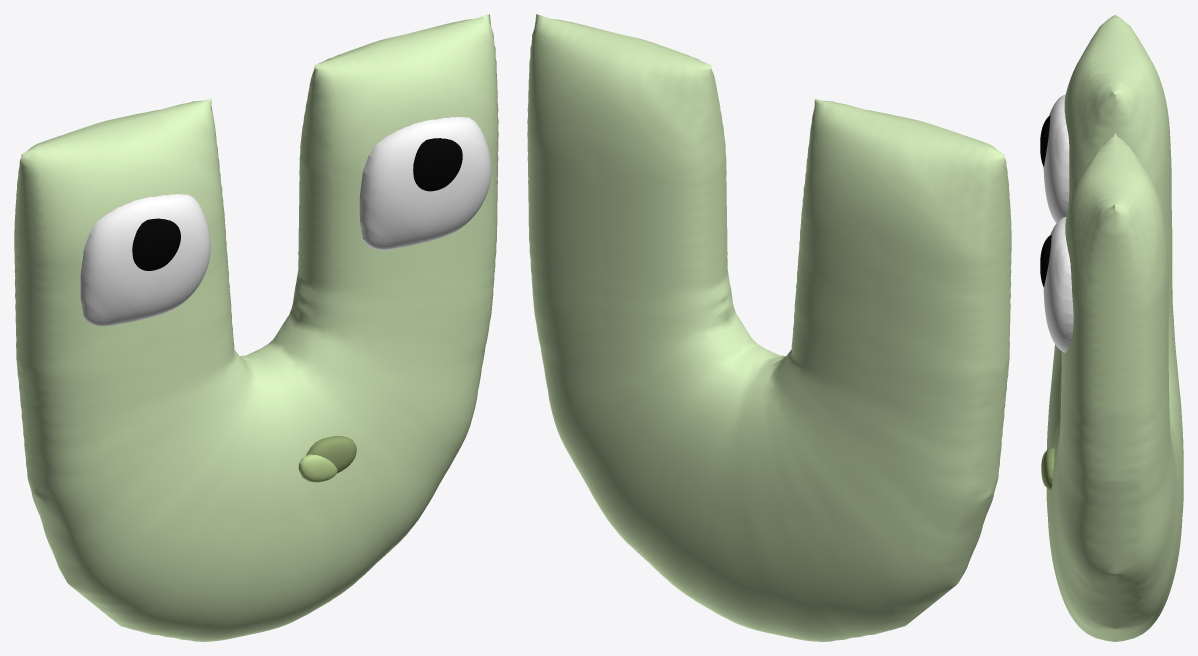
Rendered from u_alphabet_lore.glb.
3 views of the same model, side by side, from view 1: azimuth 30°, elevation 25°; view 2: azimuth 150°, elevation 25°; view 3: azimuth 270°, elevation 25° (orthographic). The views are drawn at different scales.
Parts seen in each view (by area): view 1: root_Material_44_0, root_Material_65_0 (×2), root_Material_71_0 (×2), root_Material_72_0, root_Material_76_0; view 2: root_Material_44_0; view 3: root_Material_44_0, root_Material_65_0 (×2), root_Material_71_0 (×2), root_Material_72_0.
Boxes of the visible parts, box(x1,y1,x2,y2) form: root_Material_44_0: box(14, 14, 498, 641); root_Material_65_0 (×2): box(80, 116, 491, 326); root_Material_71_0 (×2): box(132, 138, 462, 270); root_Material_72_0: box(306, 436, 356, 473); root_Material_76_0: box(298, 454, 337, 482); root_Material_44_0: box(527, 14, 1011, 641); root_Material_44_0: box(1046, 15, 1183, 641); root_Material_65_0 (×2): box(1043, 94, 1073, 352); root_Material_71_0 (×2): box(1040, 115, 1051, 287); root_Material_72_0: box(1043, 447, 1054, 490).
Size of the model in its own units: 0.00453 by 0.0051 by 0.00126.
